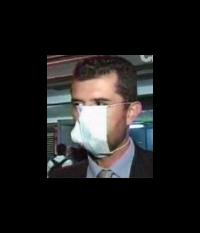mask_weared_incorrect: (70, 94, 128, 156)
